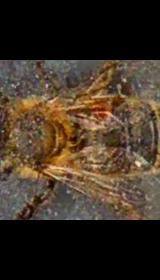varroa_mite: (91, 100, 112, 126)
